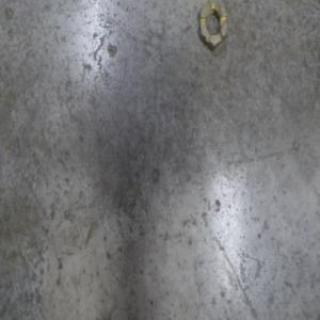Nuttrack_idkeyframe: (198, 0, 230, 51)
